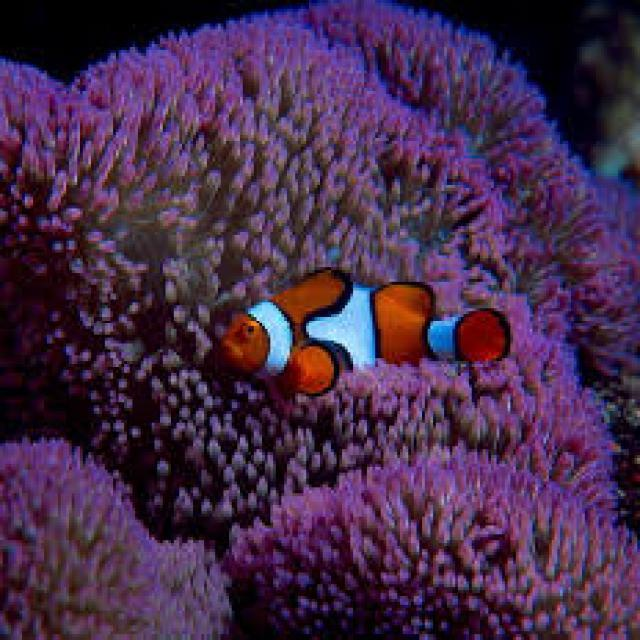ClownFish: (214, 267, 510, 383)
